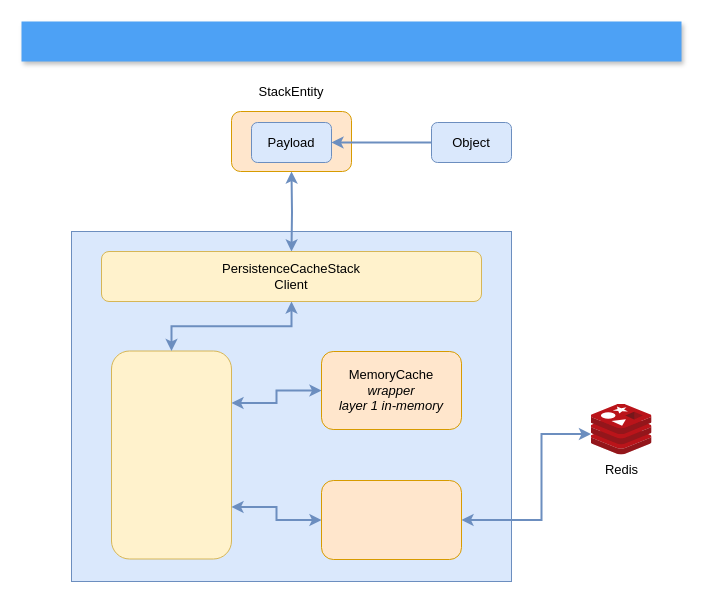
This 704x599 diagram has some shape labels left out. Each missing label, with the centre of its shape:
Architecture: the point at 352,42
RedisCache wrapper layer 2 Redis: the point at 391,520
Synchronization Manager: the point at 171,454
